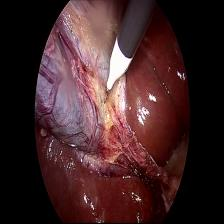Hook: (99, 34, 137, 112)
